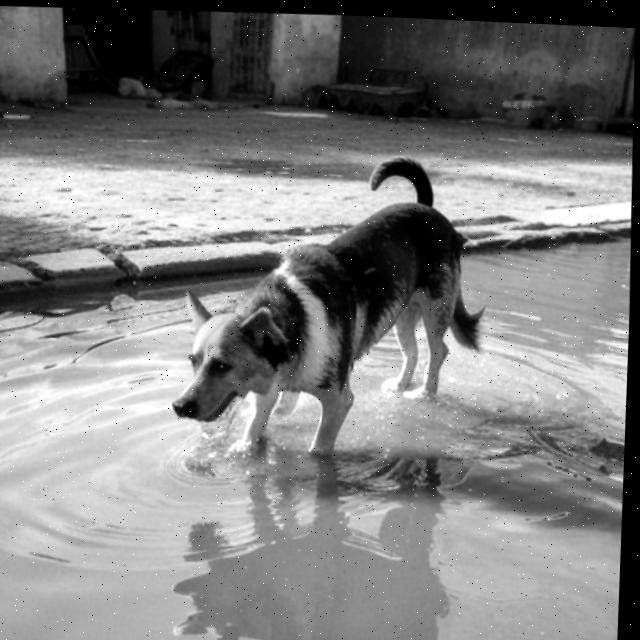dog: (155, 137, 478, 480)
